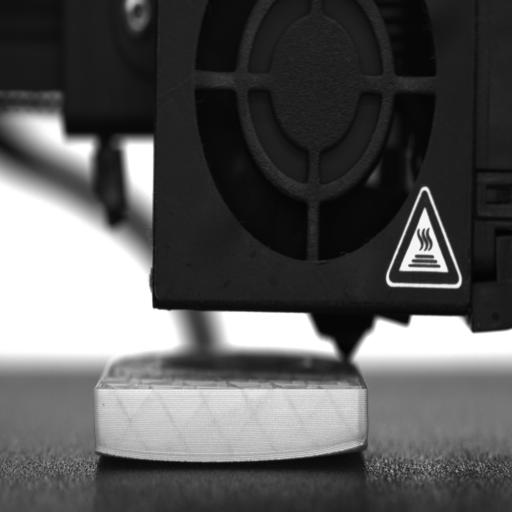warp: (92, 437, 149, 469), (318, 431, 370, 465)
